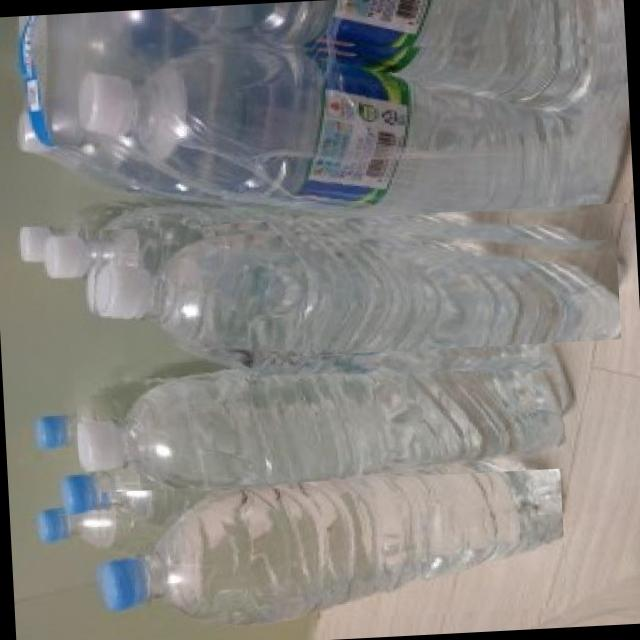plastic bottle: (78, 22, 634, 230), (89, 424, 568, 630), (83, 198, 622, 366), (73, 326, 572, 493)
